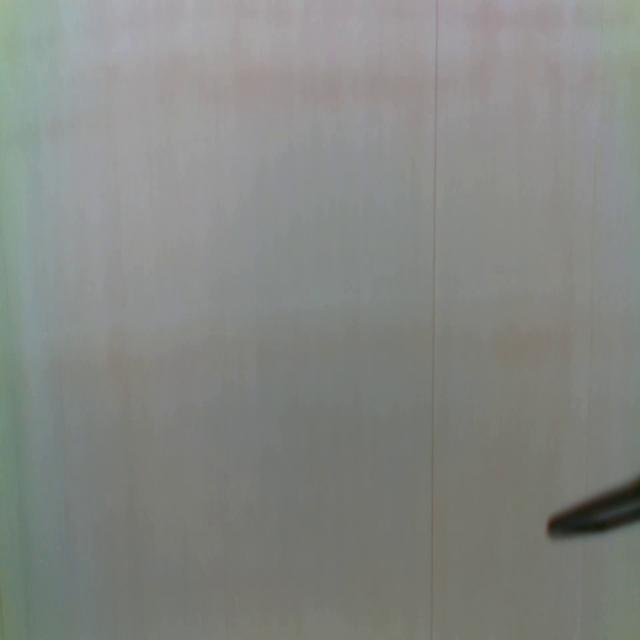color bleeding: (40, 290, 632, 400), (18, 48, 636, 146)
crease: (426, 1, 444, 640)
